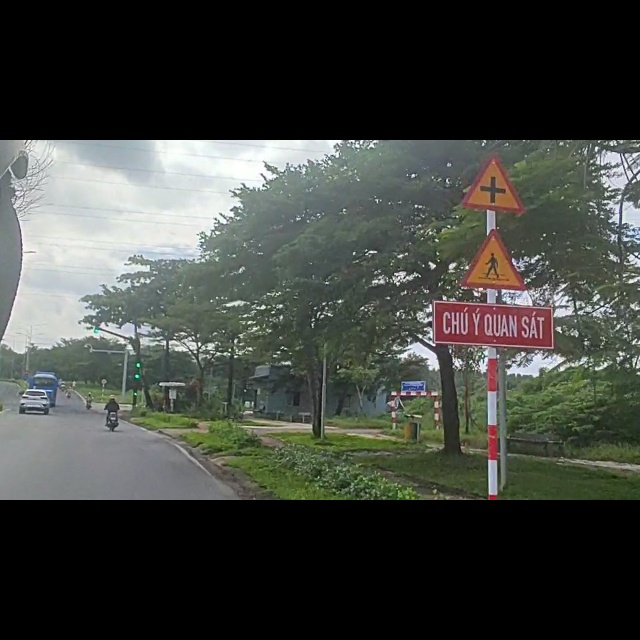bien_nguy_hiem: (456, 156, 537, 275), (459, 19, 533, 135)
